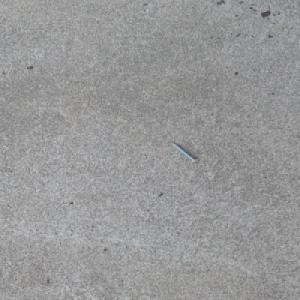Screw: (170, 142, 199, 163)
